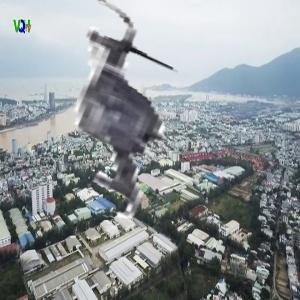drone: (10, 8, 228, 226)
